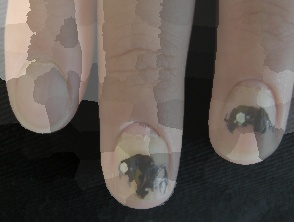SJS-TEN: (88, 100, 194, 220), (204, 66, 294, 175)
